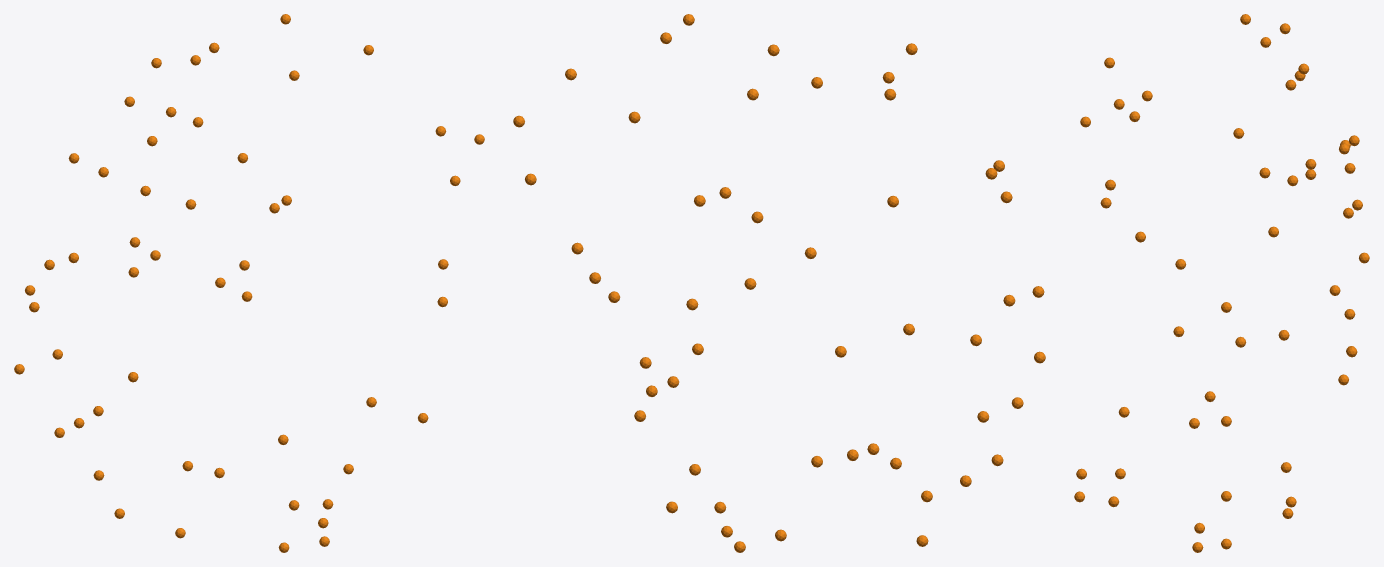
The model's file is citrus_e_fruit.obj.
3 views of the same model, side by side, from view 1: azimuth 30°, elevation 25°; view 2: azimuth 150°, elevation 25°; view 3: azimuth 270°, elevation 25° (orthographic). The views are drawn at different scales.
Visible parts, largest first — view 1: fruit; view 2: fruit; view 3: fruit.
Boxes of the visible parts, x1=… form: fruit: x1=14, y1=14, x2=484, y2=552; fruit: x1=513, y1=14, x2=1045, y2=552; fruit: x1=1074, y1=14, x2=1369, y2=552.
Size of the model in its own units: 3.7 by 3.65 by 2.03.
